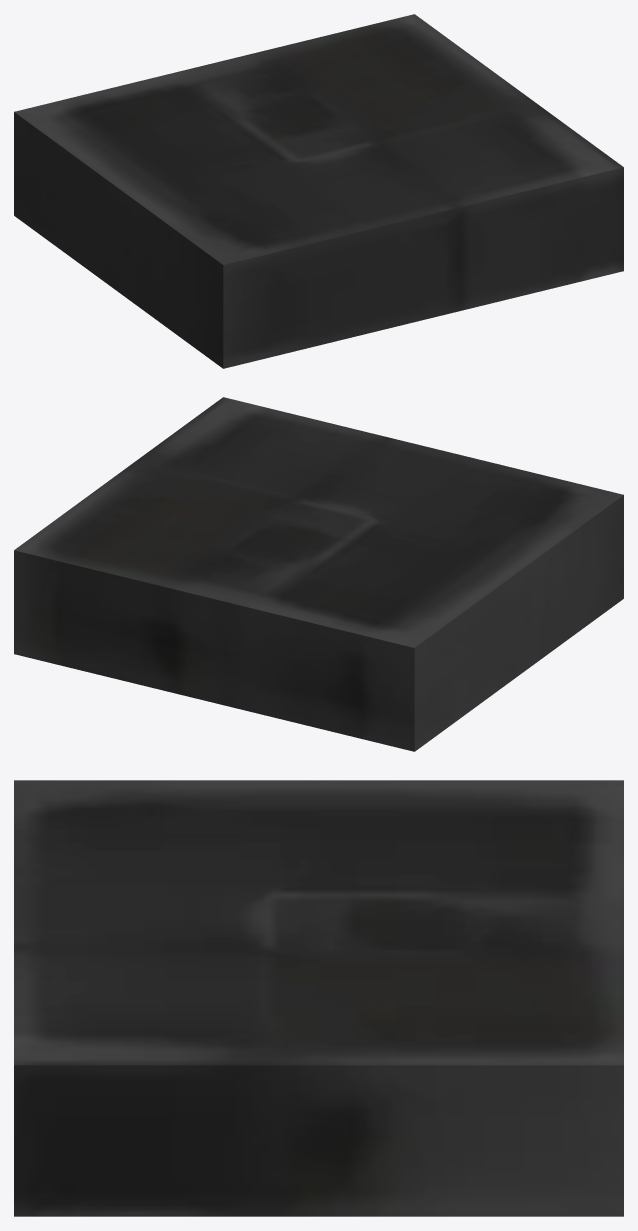
File: frame__wheel_mount_1.glb
3 views of the same model, one above another, from view 1: azimuth 30°, elevation 25°; view 2: azimuth 150°, elevation 25°; view 3: azimuth 270°, elevation 25° (orthographic). The views are drawn at different scales.
Parts seen in each view (by area): view 1: world; view 2: world; view 3: world.
Part boxes in pixels (box(x1,y1,x2,y2)): world: box(14, 14, 623, 368); world: box(14, 397, 623, 751); world: box(14, 780, 623, 1216).
Bounding box in the file's own units: 0.105 × 0.026 × 0.095.
1 material, 1 textured.
